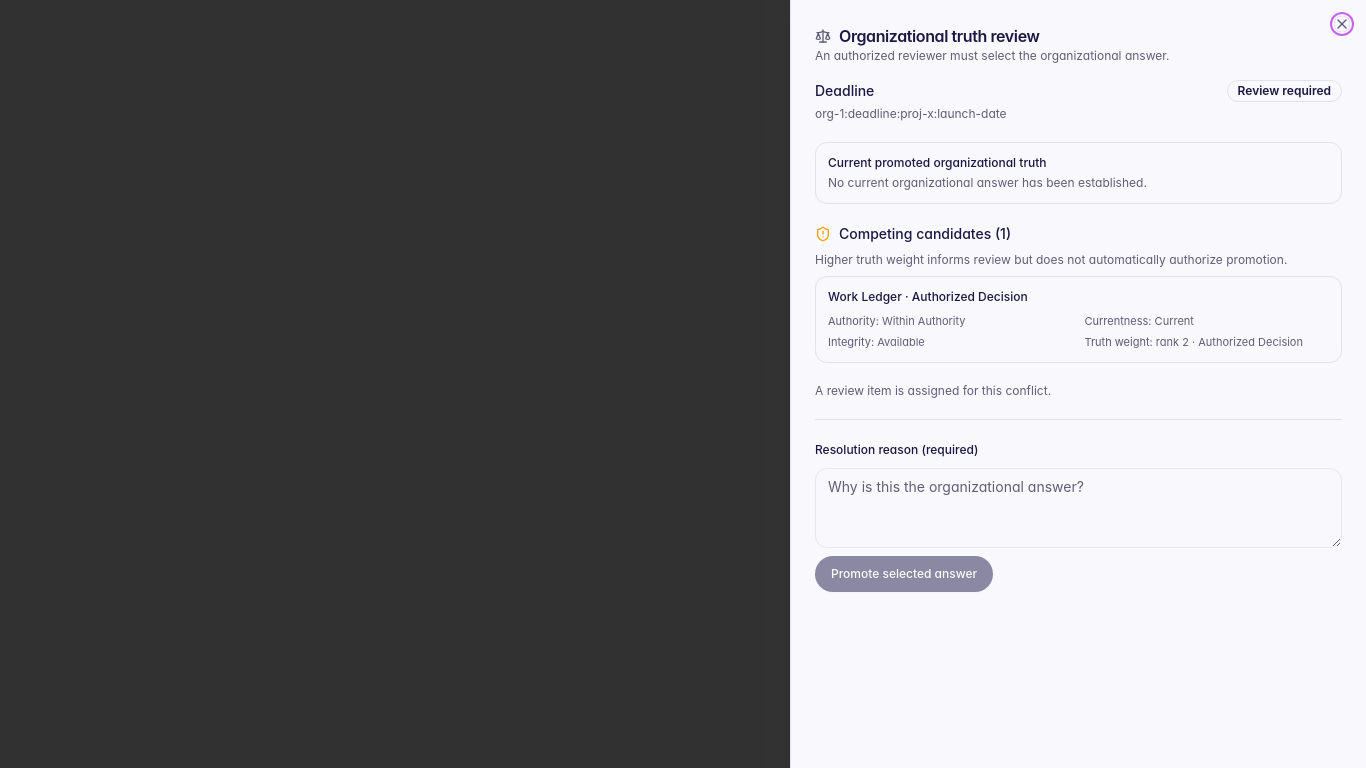
Test: Organizational Truth Review — drawer › resolve stale → typed STATE_CHANGED shows the re-review copy, no optimistic promotion
Click the button with test id "org-truth-candidate" at [928, 296], box [815, 276, 1342, 363]
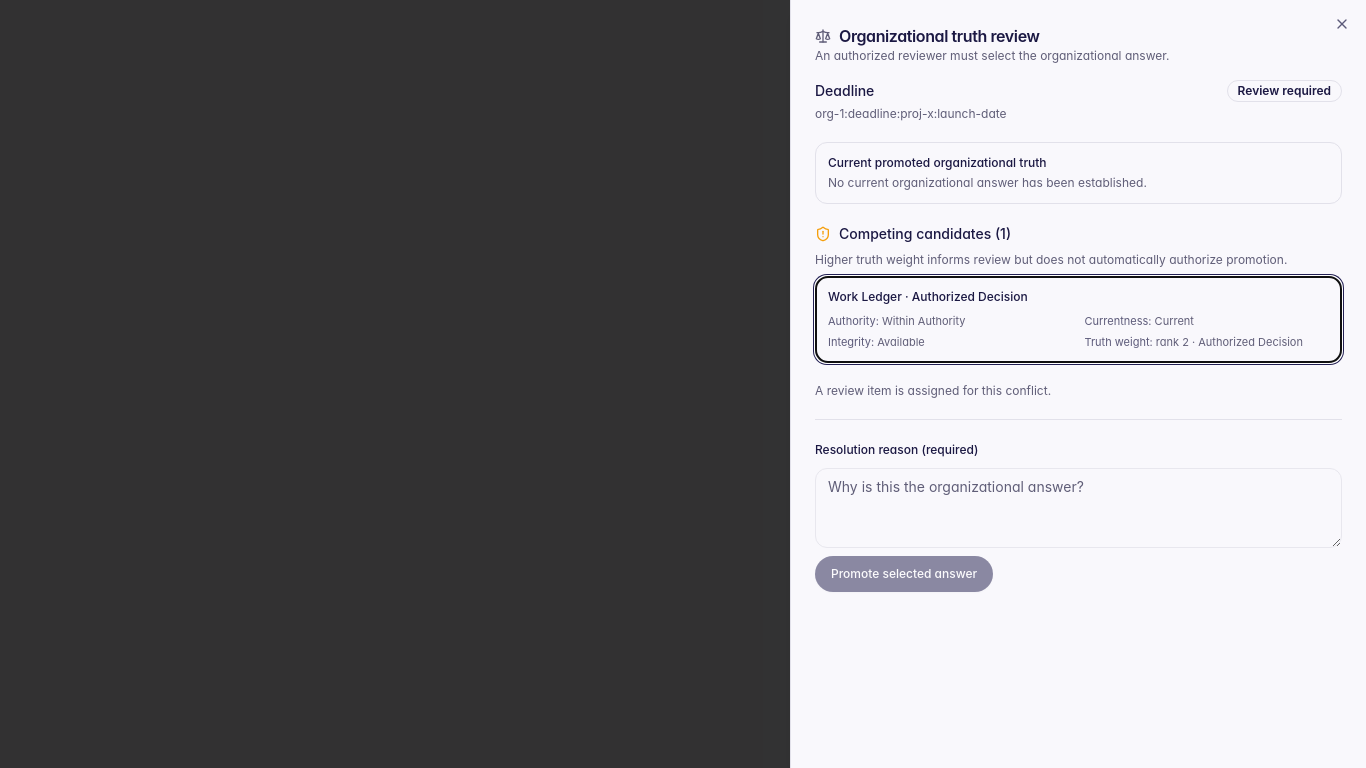
Type "reason" into the text box with test id "org-truth-reason" at [1078, 508], box [815, 468, 1342, 548]
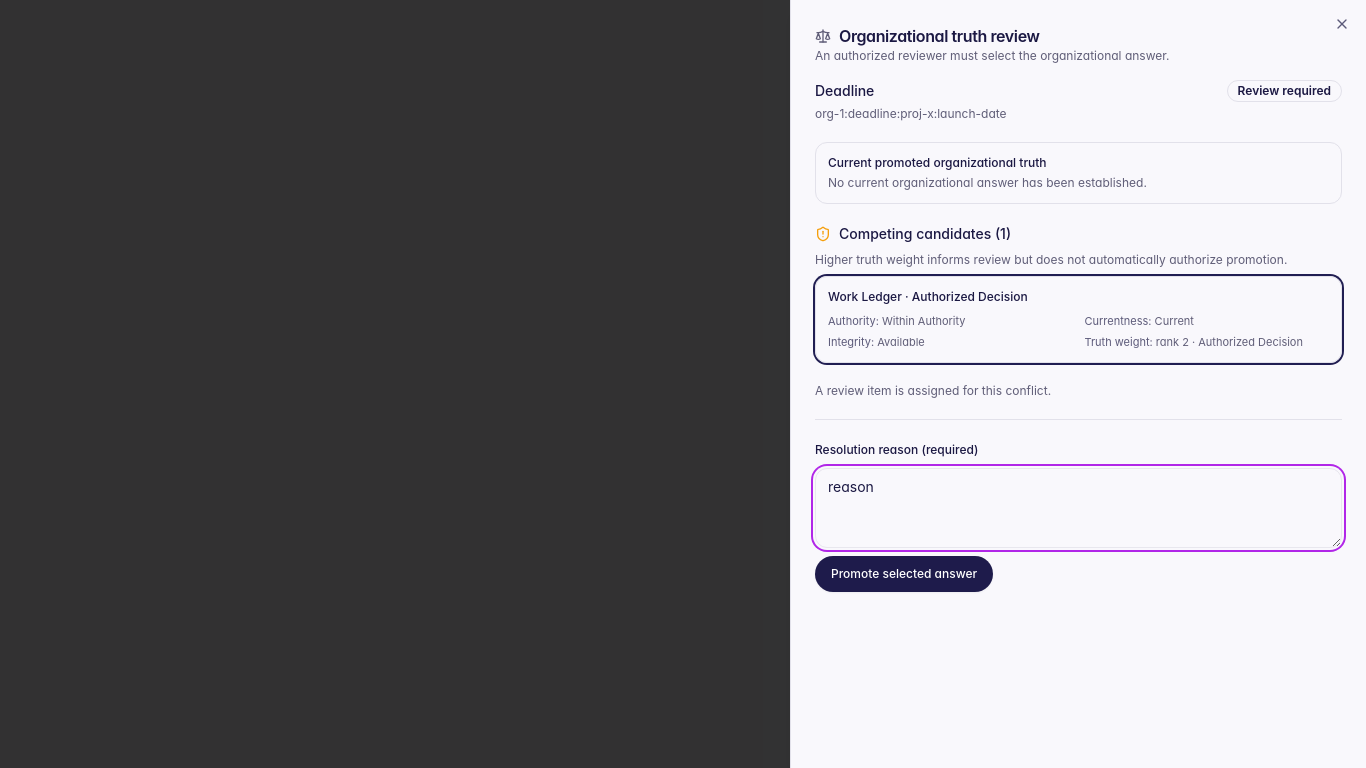
Click the button with test id "org-truth-resolve" at [904, 574], box [815, 556, 993, 592]
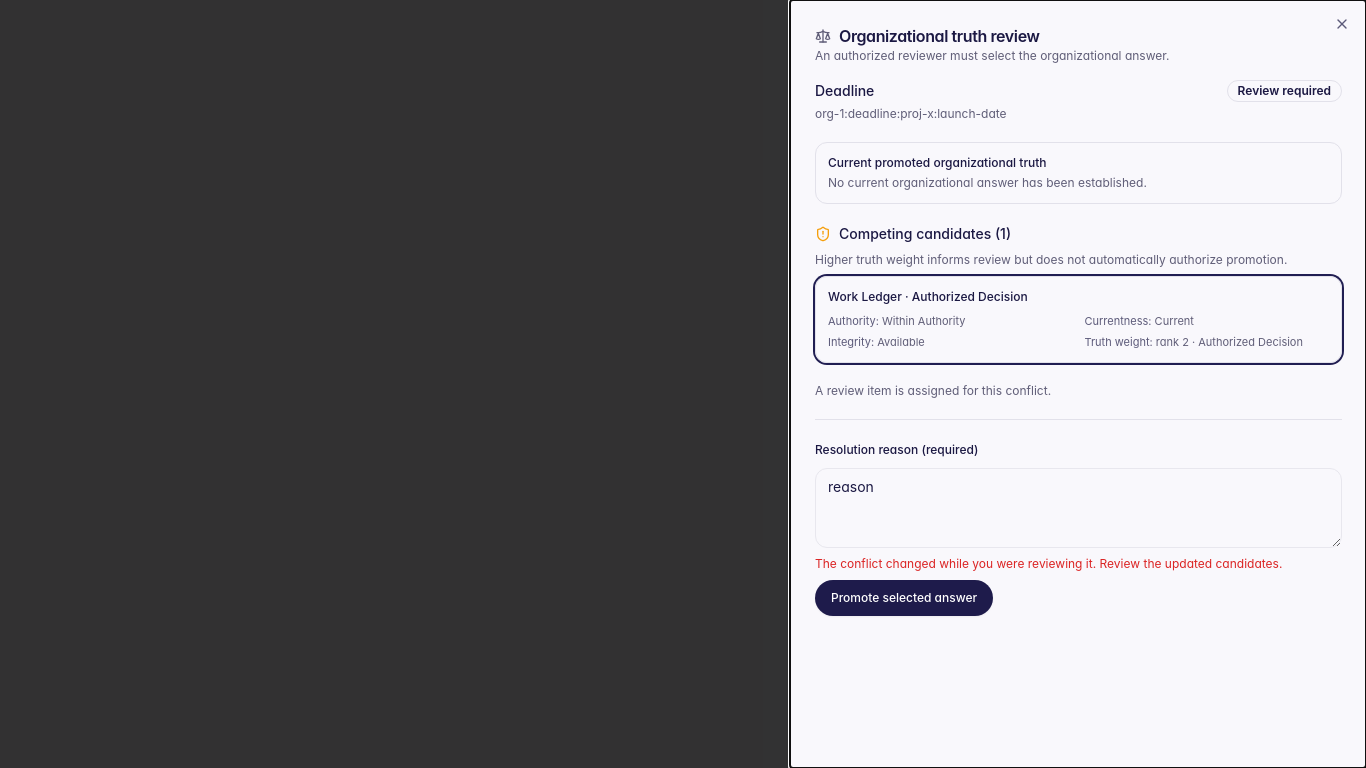
Expected: the message with test id "org-truth-resolve-error" shows "The conflict changed while you were reviewing it", [815, 556, 1282, 571]
